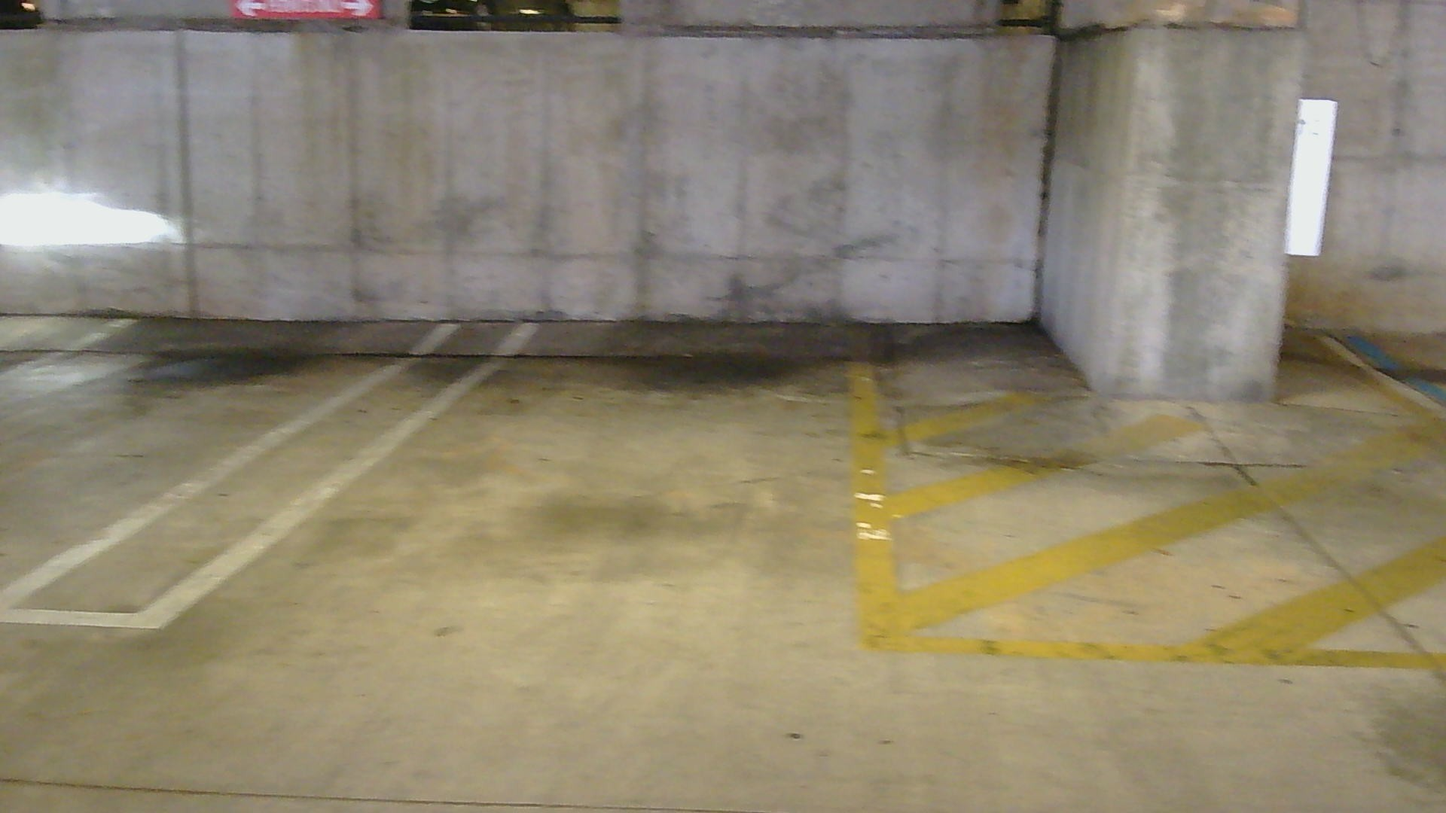empty_spot: (96, 193, 962, 634), (0, 203, 482, 622)
